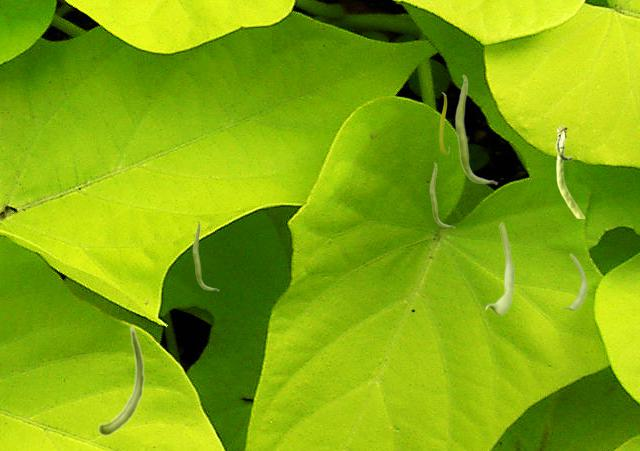french_bean: (97, 325, 144, 435), (454, 74, 497, 184), (555, 125, 584, 217), (485, 222, 513, 314), (192, 220, 218, 290), (429, 162, 454, 227), (560, 253, 586, 309), (439, 92, 448, 153)
